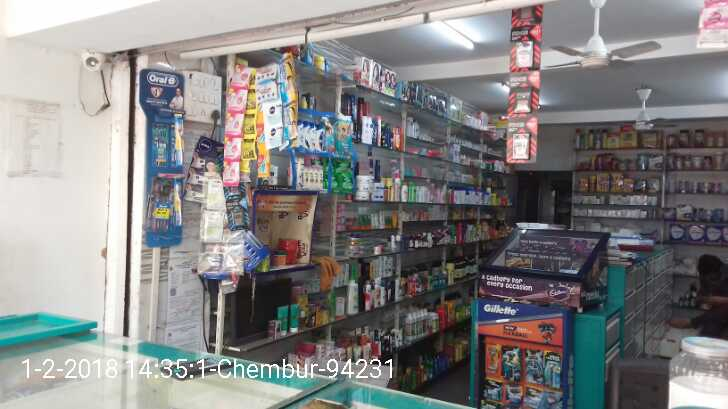oralcare: (141, 69, 181, 252)
